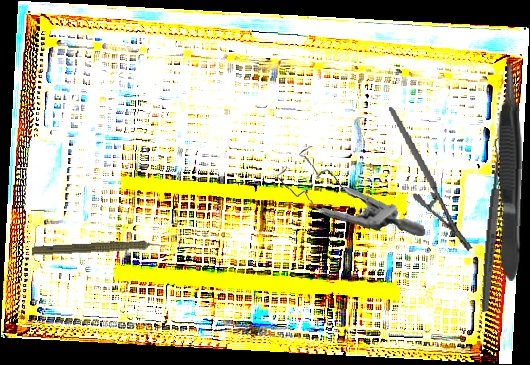Handpiece: (31, 237, 170, 261)
Needle Holder: (388, 97, 474, 261)
Speculum: (274, 137, 426, 248)
Surgical Spoon: (479, 136, 506, 313)
Tissue Forceps: (494, 56, 526, 281)
